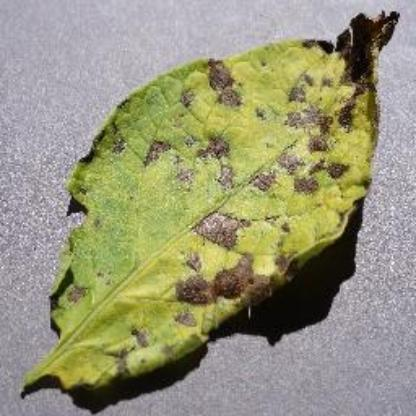Early-Blight: (20, 3, 413, 415)
